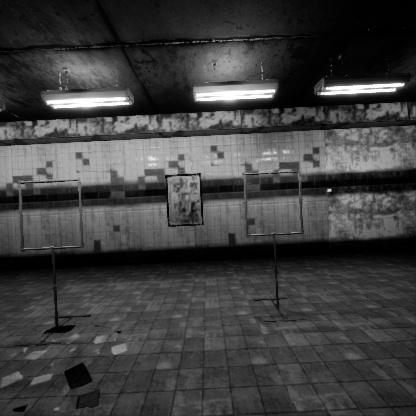gate: (18, 164, 90, 238), (243, 178, 308, 246)
